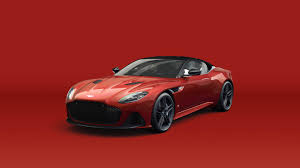car: (58, 47, 248, 138)
